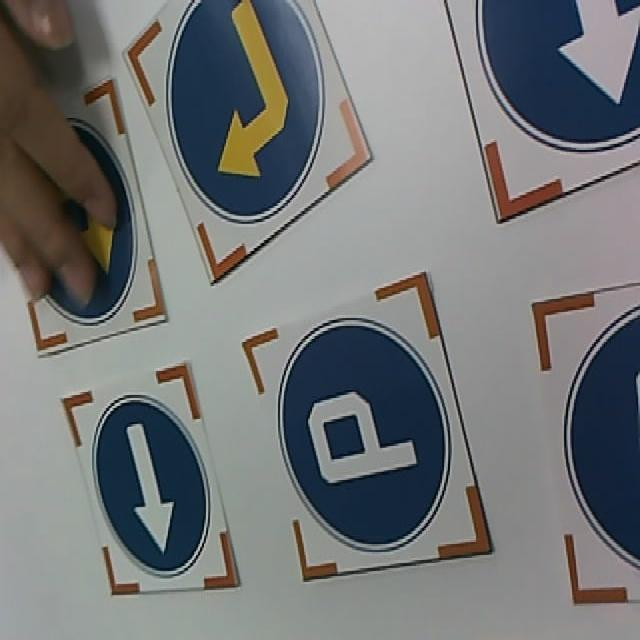parking: (243, 273, 492, 580)
straight: (54, 355, 239, 601), (439, 0, 640, 225)
turn: (122, 2, 370, 286)
